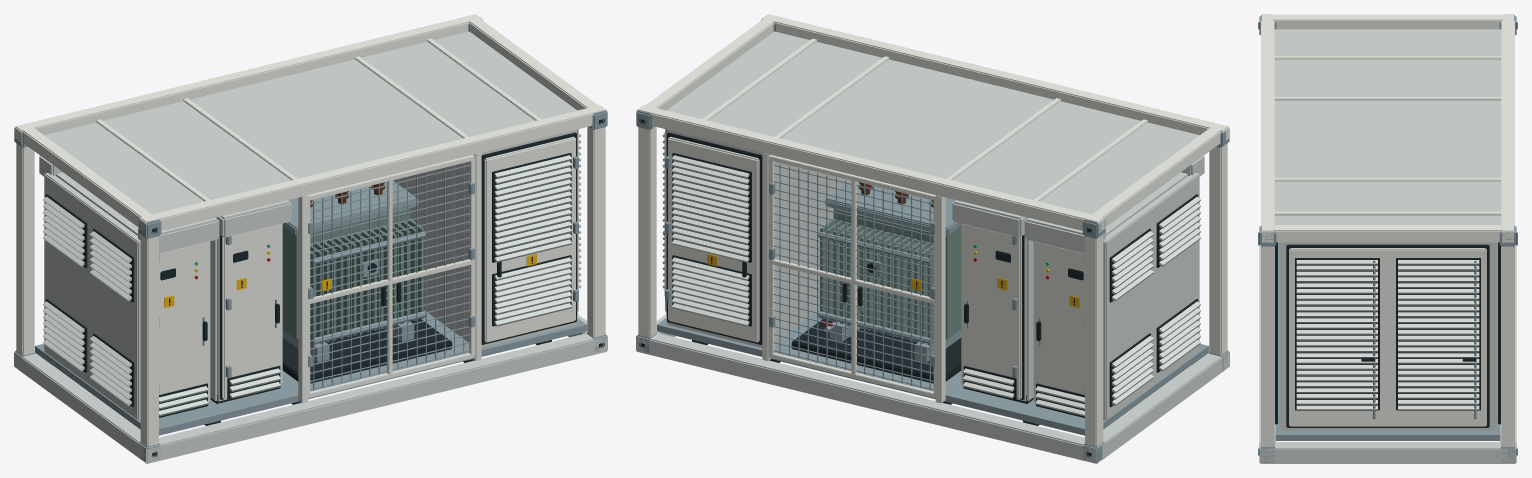
Rendered from generic-pcs-mv-skid-5mw-v2.glb.
3 renders of one model, left to right at view 1: azimuth 30°, elevation 25°; view 2: azimuth 150°, elevation 25°; view 3: azimuth 270°, elevation 25°, orthographic. The views are drawn at different scales.
Parts seen in each view (by area): view 1: Skid_Frame_porcelain-shell, Skid_Frame_service-panel, PCS_Cabinets_porcelain-shell, MV_Switchgear_porcelain-shell, PCS_Cabinets_service-panel, Transformer_Guards_galvanized-steel, Transformer_Equipment_transformer-grey, Skid_Frame_galvanized-steel, Transformer_Guards_service-panel, MV_Switchgear_service-panel, Transformer_Equipment_galvanized-steel, Transformer_Equipment_graphite-trim (+2 smaller); view 2: Skid_Frame_porcelain-shell, Skid_Frame_service-panel, PCS_Cabinets_porcelain-shell, MV_Switchgear_porcelain-shell, PCS_Cabinets_service-panel, Transformer_Guards_galvanized-steel, Transformer_Equipment_transformer-grey, Skid_Frame_galvanized-steel, Transformer_Guards_service-panel, MV_Switchgear_service-panel, Transformer_Equipment_galvanized-steel, Transformer_Equipment_graphite-trim (+2 smaller); view 3: Skid_Frame_porcelain-shell, MV_Switchgear_porcelain-shell, Skid_Frame_service-panel, MV_Switchgear_graphite-trim, MV_Switchgear_service-panel, Skid_Frame_galvanized-steel, MV_Switchgear_galvanized-steel.
Part boxes in pixels (box(x1,y1,x2,y2)): Skid_Frame_porcelain-shell: box(14, 31, 607, 463); Skid_Frame_service-panel: box(14, 14, 607, 446); PCS_Cabinets_porcelain-shell: box(39, 155, 291, 420); MV_Switchgear_porcelain-shell: box(393, 129, 581, 347); PCS_Cabinets_service-panel: box(159, 223, 282, 402); Transformer_Guards_galvanized-steel: box(308, 163, 474, 390); Transformer_Equipment_transformer-grey: box(282, 208, 423, 345); Skid_Frame_galvanized-steel: box(14, 19, 607, 461); Transformer_Guards_service-panel: box(308, 155, 474, 398); MV_Switchgear_service-panel: box(484, 129, 578, 342); Transformer_Equipment_galvanized-steel: box(282, 180, 425, 362); Transformer_Equipment_graphite-trim: box(282, 263, 452, 383); Skid_Frame_porcelain-shell: box(636, 31, 1229, 463); Skid_Frame_service-panel: box(636, 14, 1229, 446); PCS_Cabinets_porcelain-shell: box(952, 155, 1204, 420); MV_Switchgear_porcelain-shell: box(662, 129, 850, 347); PCS_Cabinets_service-panel: box(961, 223, 1084, 402); Transformer_Guards_galvanized-steel: box(769, 163, 935, 390); Transformer_Equipment_transformer-grey: box(820, 208, 961, 345); Skid_Frame_galvanized-steel: box(636, 19, 1229, 461); Transformer_Guards_service-panel: box(769, 155, 935, 398); MV_Switchgear_service-panel: box(665, 129, 759, 342); Transformer_Equipment_galvanized-steel: box(818, 180, 961, 362); Transformer_Equipment_graphite-trim: box(791, 263, 961, 383); Skid_Frame_porcelain-shell: box(1259, 29, 1516, 463); MV_Switchgear_porcelain-shell: box(1279, 242, 1496, 430); Skid_Frame_service-panel: box(1261, 14, 1514, 447); MV_Switchgear_graphite-trim: box(1275, 242, 1500, 427); MV_Switchgear_service-panel: box(1274, 247, 1501, 426); Skid_Frame_galvanized-steel: box(1259, 15, 1516, 462); MV_Switchgear_galvanized-steel: box(1373, 260, 1476, 419).
Size of the model in its own units: 6 by 3 by 3.03.
